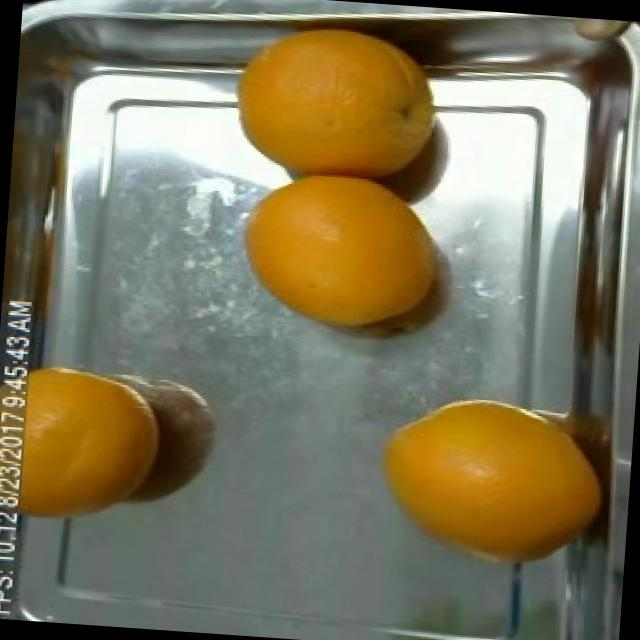Fruit: (213, 16, 432, 202), (0, 366, 176, 540), (125, 371, 234, 518), (553, 16, 640, 54)
